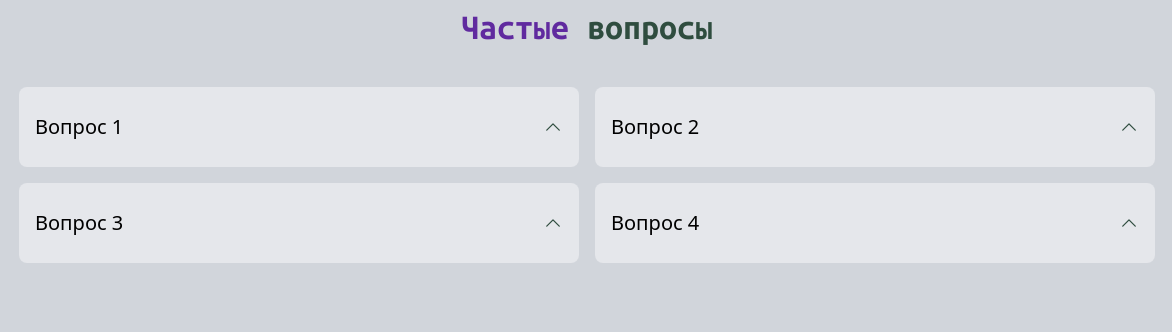
Faq Component › expands and shows answer when button is clicked
The width and height of the screenshot is (1172, 332).
Check: the text "Ответ 1" is not shown
# Находим кнопку первого вопроса и кликаем по ней
Click the button "Вопрос 1" at (79, 126), box [19,87,579,167]
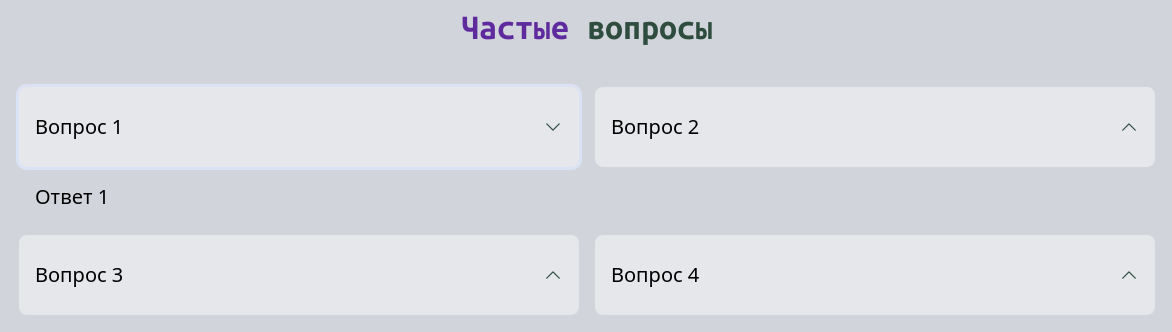
Check: the text "Ответ 1" is shown, box [35,183,109,210]
